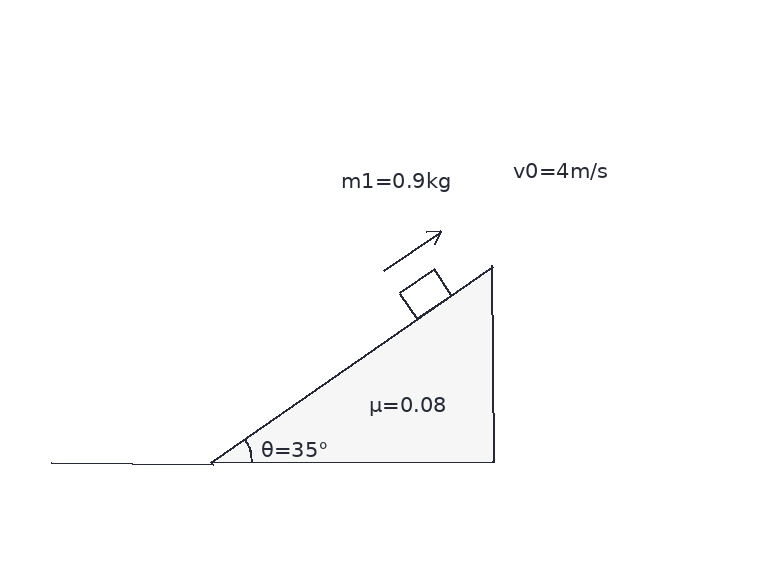block: (397, 268, 453, 321)
ramp: (210, 263, 495, 464)
